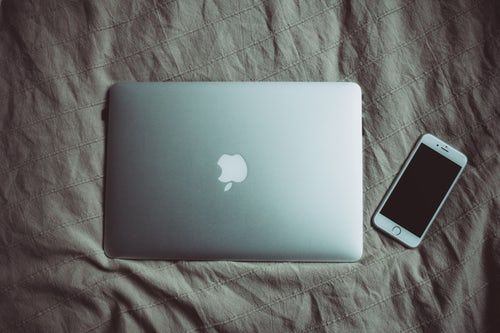phone: (370, 129, 470, 254)
